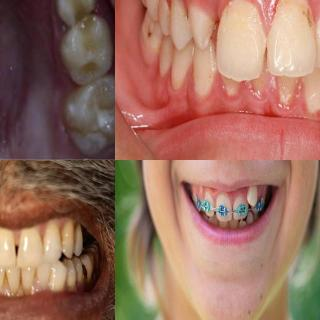Gum Swelling: (211, 72, 309, 118), (185, 0, 231, 20)
cavities: (142, 18, 158, 48), (66, 11, 90, 27), (74, 262, 92, 282)
maligned: (245, 185, 261, 208), (238, 217, 248, 231)
plaque: (266, 0, 313, 74), (221, 0, 263, 80), (168, 0, 188, 46), (305, 76, 320, 116), (157, 0, 169, 25), (56, 227, 68, 248), (138, 0, 156, 13), (70, 229, 80, 250)
stains: (12, 272, 26, 292), (0, 271, 10, 288), (32, 267, 40, 283)
